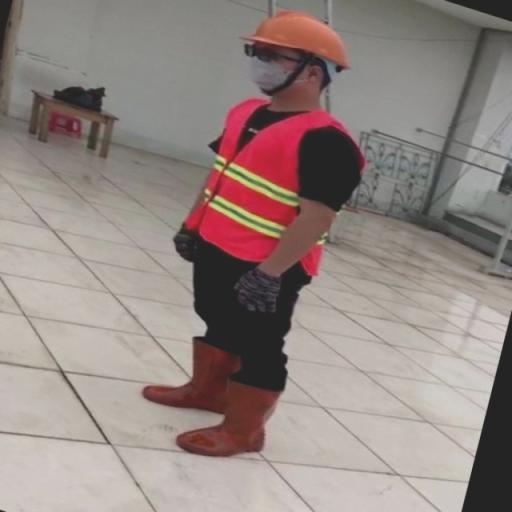Person: (131, 0, 368, 490)
boots: (174, 374, 284, 466), (137, 328, 246, 412)
gloves: (230, 263, 284, 323), (171, 221, 202, 267)
goggles: (235, 36, 307, 72)
helmet: (233, 8, 362, 72)
vest: (194, 95, 338, 285)
